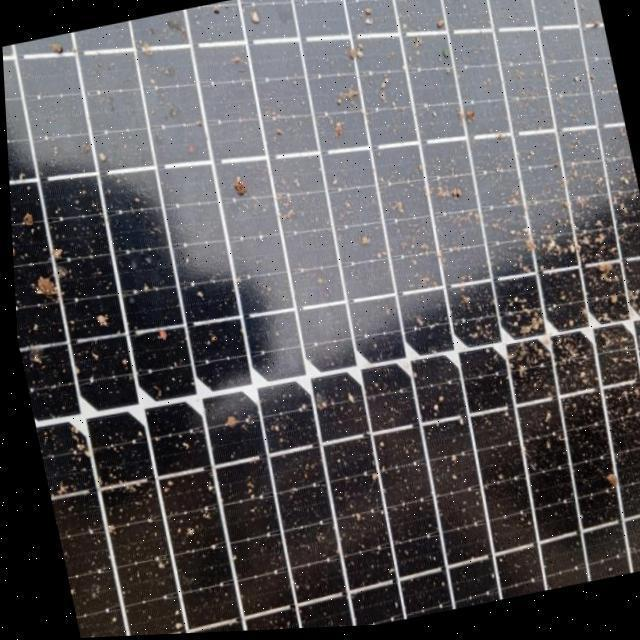Anomaly Solar Panel: (0, 0, 613, 640)
Surface Contaminant: (2, 0, 612, 638)
